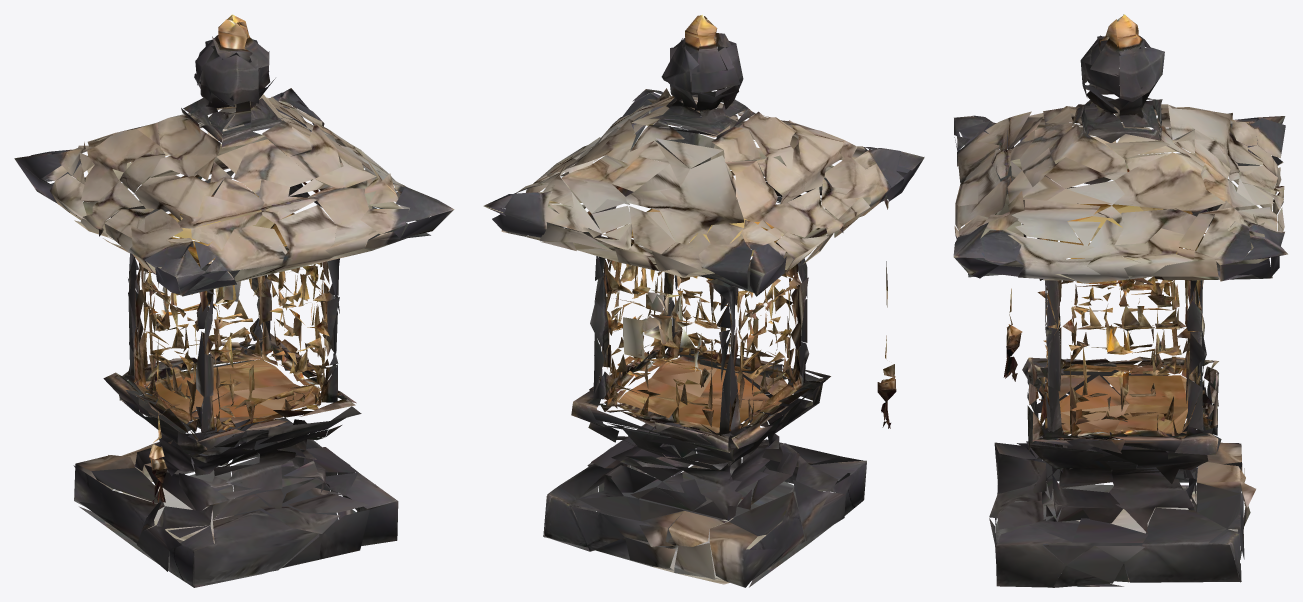
The model's file is Stone_Lantern_town.glb.
3 views of the same model, side by side, from view 1: azimuth 30°, elevation 25°; view 2: azimuth 150°, elevation 25°; view 3: azimuth 270°, elevation 25° (orthographic). The views are drawn at different scales.
Visible parts, largest first — view 1: Stone_Lantern; view 2: Stone_Lantern; view 3: Stone_Lantern.
Part boxes in pixels (box(x1,y1,x2,y2)): Stone_Lantern: box(14, 14, 454, 587); Stone_Lantern: box(483, 14, 924, 587); Stone_Lantern: box(953, 14, 1287, 587).
Bounding box in the file's own units: 1.15 × 1.99 × 1.16.
1 material, 1 textured.
